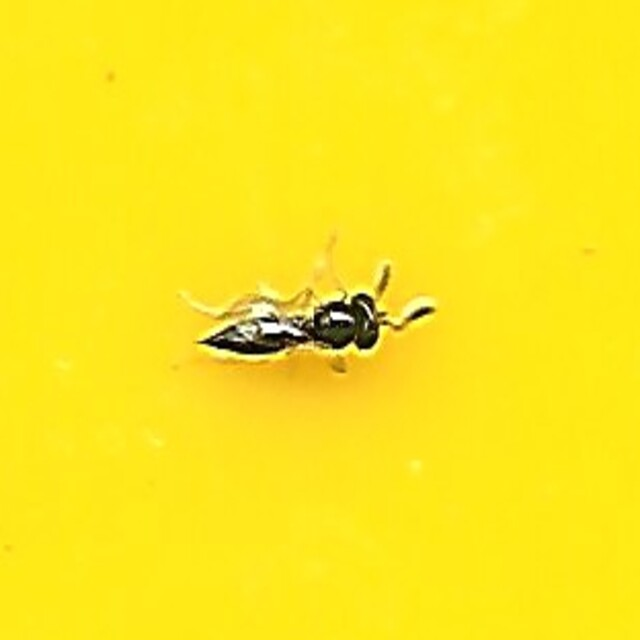Hymenoptera: (205, 264, 435, 376)
